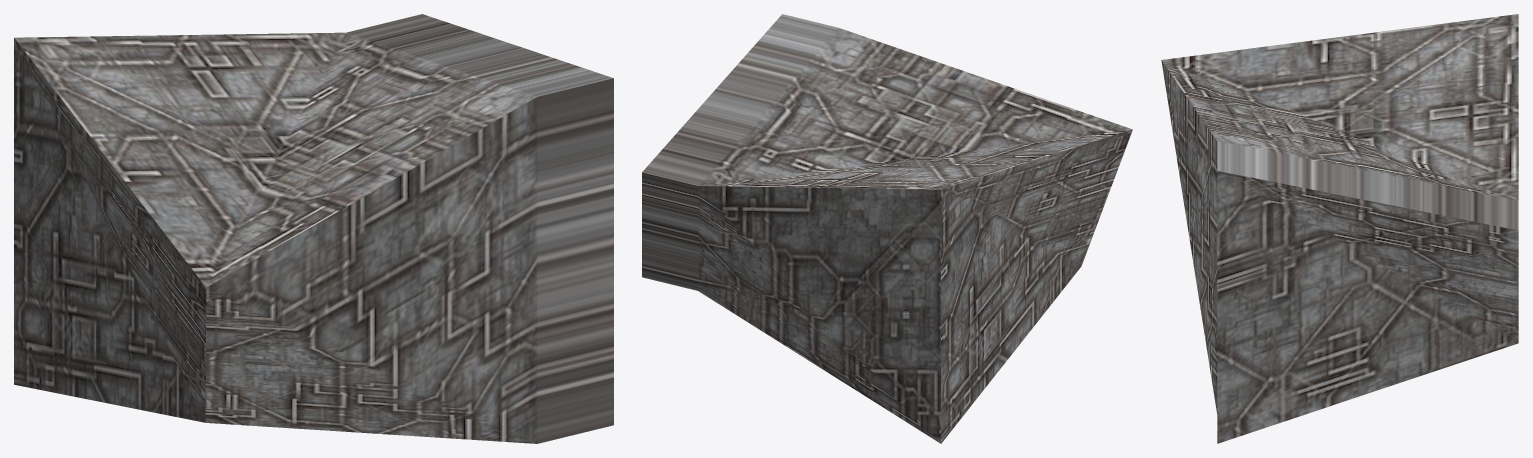
Rendered from complex.obj.
The picture shows the model from 3 angles, left to right: view 1: azimuth 30°, elevation 25°; view 2: azimuth 150°, elevation 25°; view 3: azimuth 270°, elevation 25°; orthographic projection. The views are drawn at different scales.
Visible parts, largest first — view 1: Cube; view 2: Cube; view 3: Cube.
Boxes of the visible parts, left/top/right/bottom form: Cube: left=14, top=14, right=613, bottom=443; Cube: left=642, top=14, right=1132, bottom=443; Cube: left=1161, top=14, right=1518, bottom=443.
Size of the model in its own units: 2.67 by 2 by 2.37.
